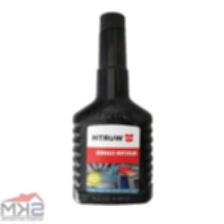cleaning_solution: (68, 7, 157, 207)
